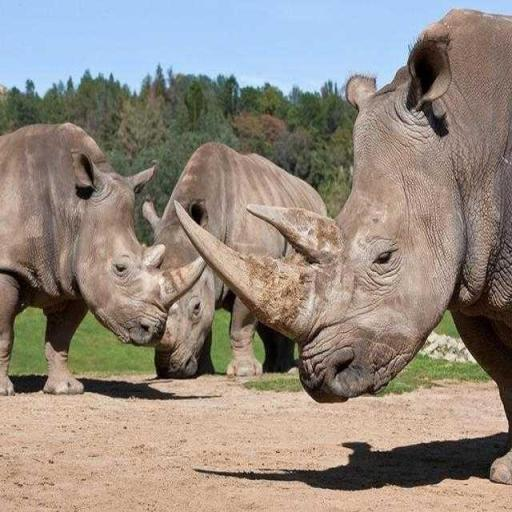Rhino: (169, 6, 511, 484), (0, 120, 215, 396), (141, 139, 329, 379)
